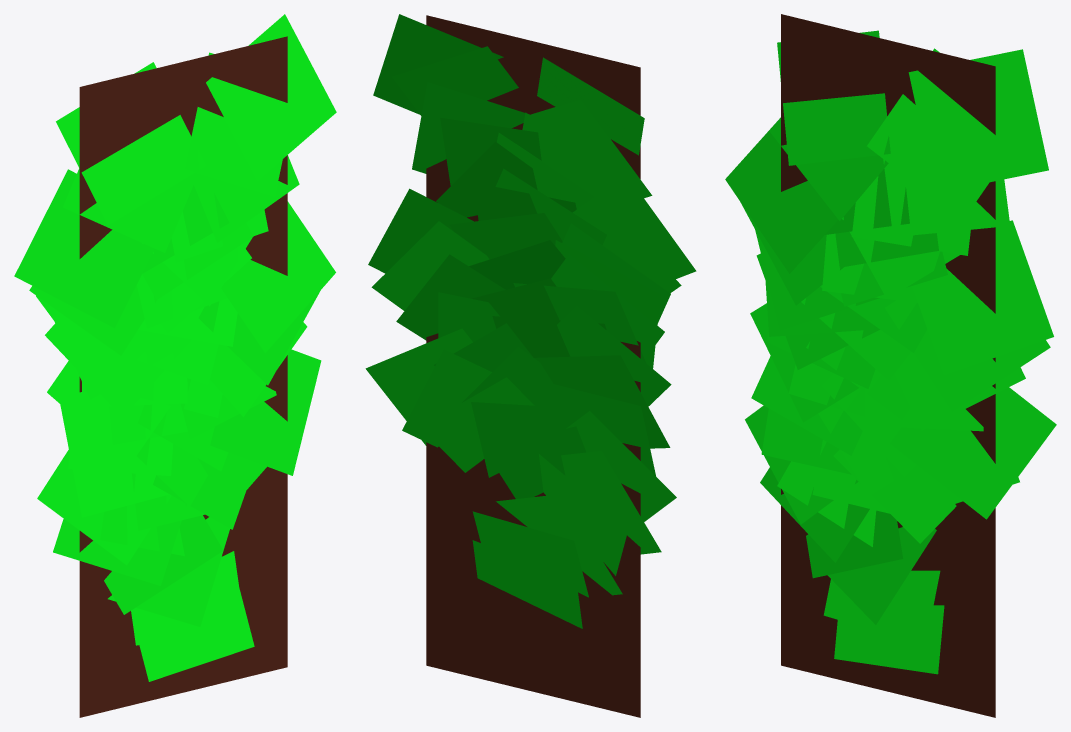
File: Vine4.FBX
3 renders of one model, left to right at view 1: azimuth 30°, elevation 25°; view 2: azimuth 150°, elevation 25°; view 3: azimuth 330°, elevation 25°, orthographic. The views are drawn at different scales.
Visible parts, largest first — view 1: Test4, Paint; view 2: Test4, Paint; view 3: Test4, Paint.
Boxes of the visible parts, bbox=[...] form: Test4: bbox=[14, 14, 336, 681]; Paint: bbox=[79, 36, 287, 717]; Test4: bbox=[365, 14, 696, 628]; Paint: bbox=[426, 15, 640, 717]; Test4: bbox=[725, 30, 1056, 674]; Paint: bbox=[781, 14, 995, 717].
Bounding box in the file's own units: 154 × 294 × 24.17.
